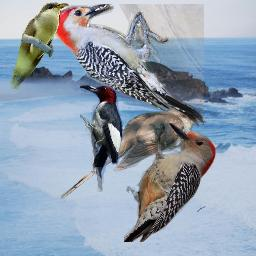Cuckoo: (61, 106, 206, 200), (9, 2, 69, 89)
Woodpecker: (55, 4, 204, 126), (124, 123, 216, 242), (80, 84, 123, 192)
